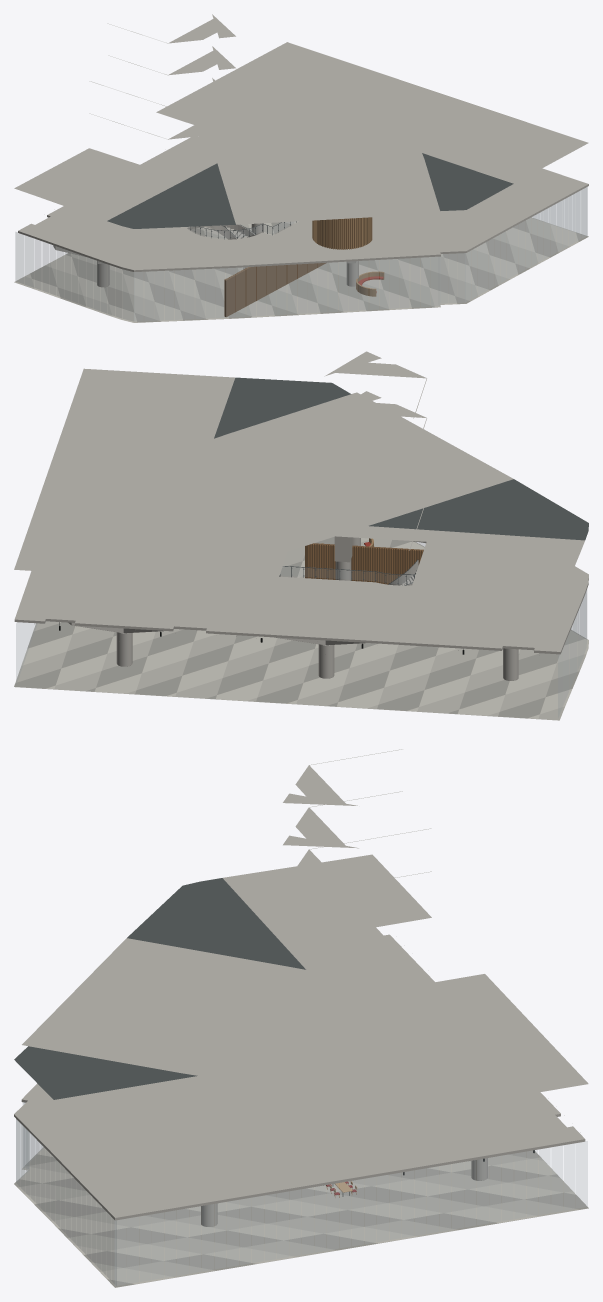
File: mar-interior-216d8d8defd8.glb
3 views of the same model, one above another, from view 1: azimuth 30°, elevation 25°; view 2: azimuth 150°, elevation 25°; view 3: azimuth 270°, elevation 25° (orthographic). The views are drawn at different scales.
Visible parts, largest first — view 1: MAR.001; view 2: MAR.001; view 3: MAR.001.
Boxes of the visible parts, <box> form: MAR.001: <box>14,14,588,322</box>; MAR.001: <box>14,351,588,720</box>; MAR.001: <box>14,749,588,1287</box>.
Size of the model in its own units: 67.69 by 30.4 by 53.21.
